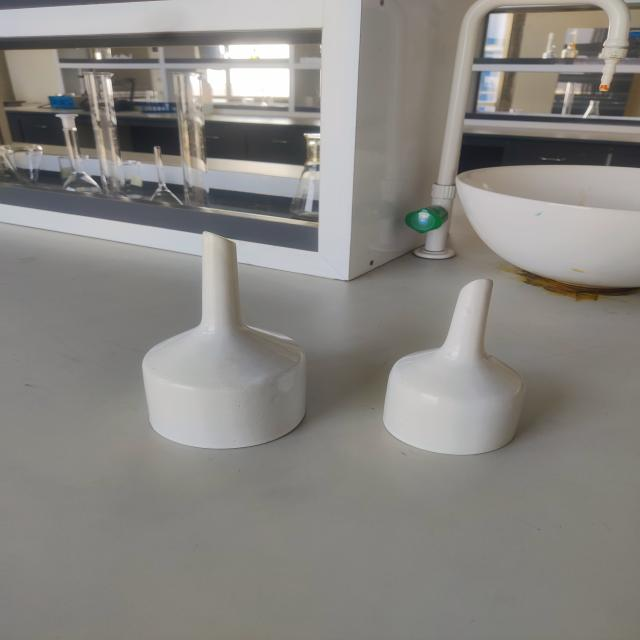Buchner_Funnel: (101, 212, 343, 470), (368, 253, 564, 481)
